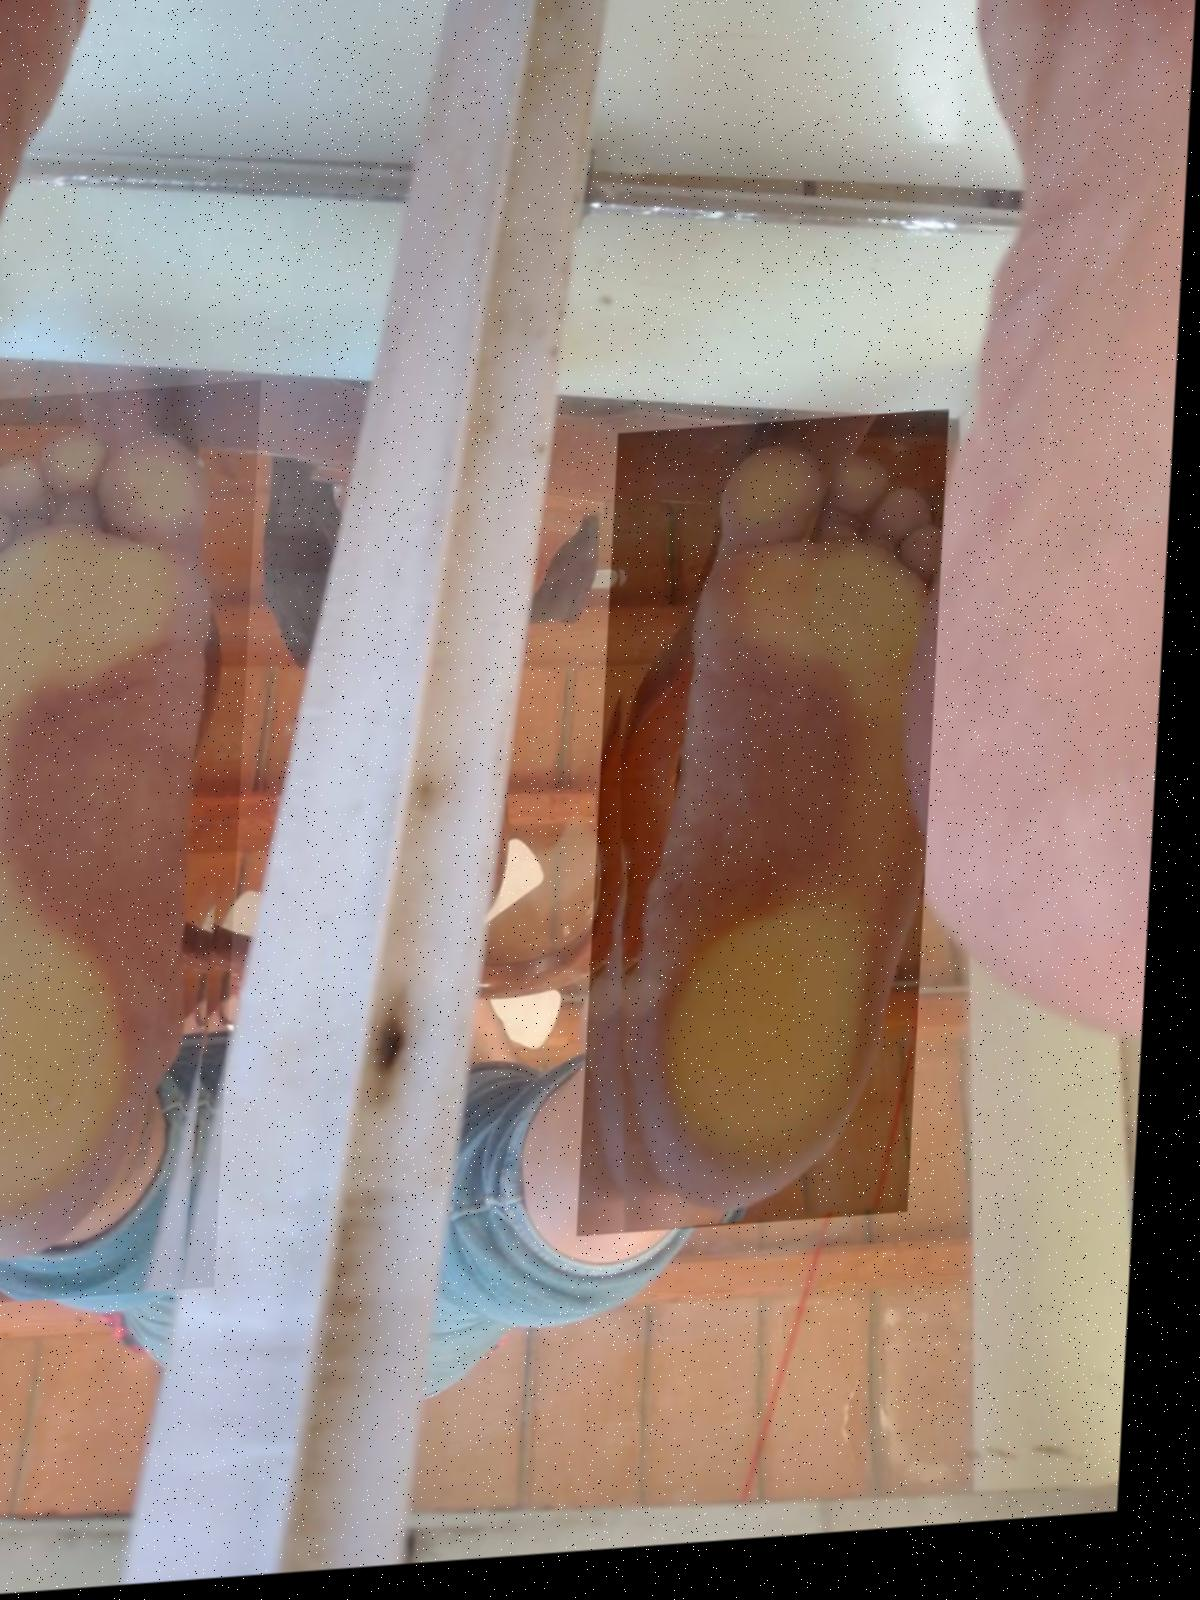9: (0, 384, 266, 1308)
Present: (591, 425, 954, 1247)
